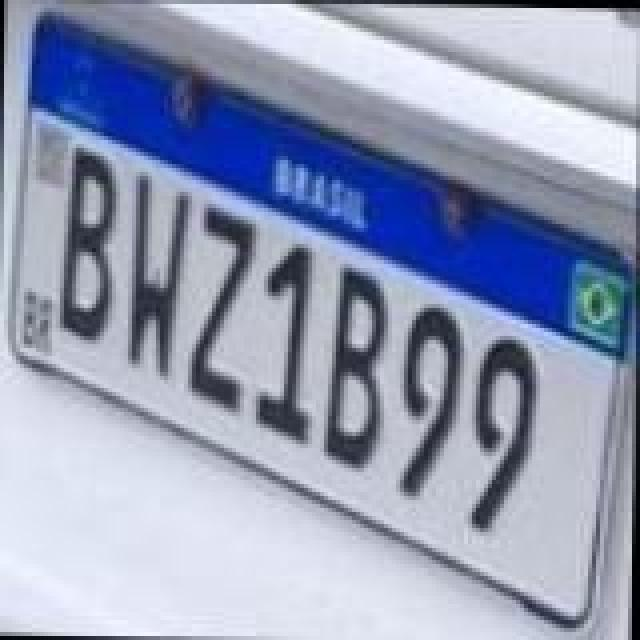1: (326, 260, 398, 472), (252, 244, 320, 448)
9: (470, 340, 546, 536), (396, 298, 468, 494)
B: (60, 146, 124, 342)
W: (124, 172, 192, 384)
Z: (190, 206, 262, 418)
